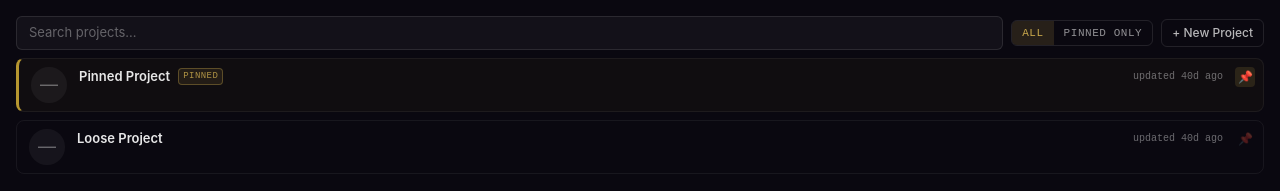
it: ProjectsTab — search & filter › restricts the list to pinned projects when the "Pinned only" filter is active
Expected: the text "Pinned Project" is shown, [79,66,170,86]
Expected: the text "Loose Project" is shown, [77,128,163,148]
Click the tab "Pinned only": (1103, 33) [1054,20,1152,45]
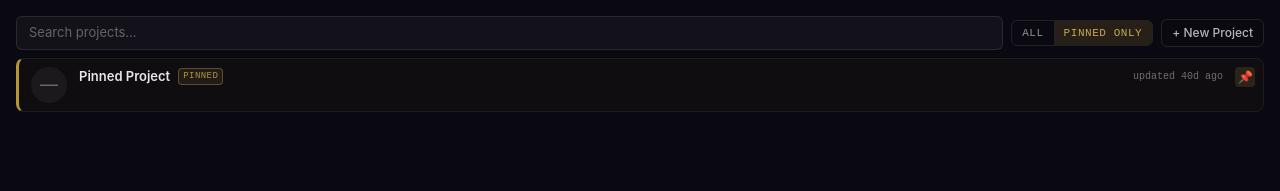
Expected: the text "Pinned Project" is shown, [79,66,170,86]
Expected: the button "Loose Project" is gone
